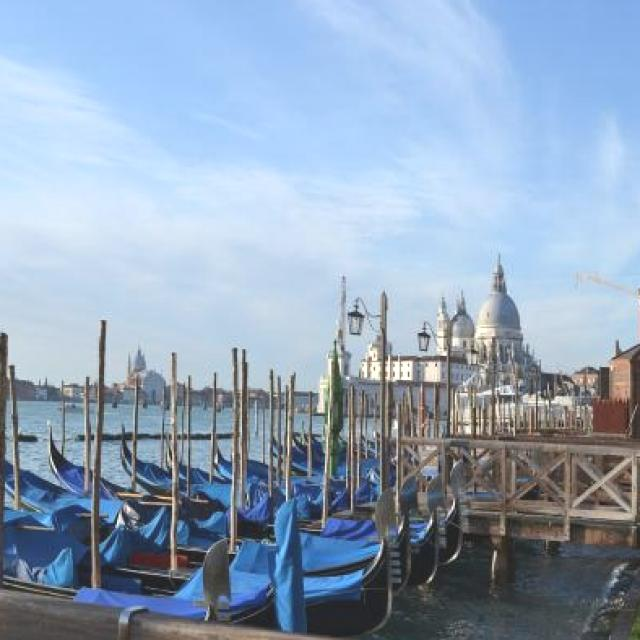ship: (0, 419, 398, 637), (45, 419, 468, 567), (452, 368, 592, 433)
